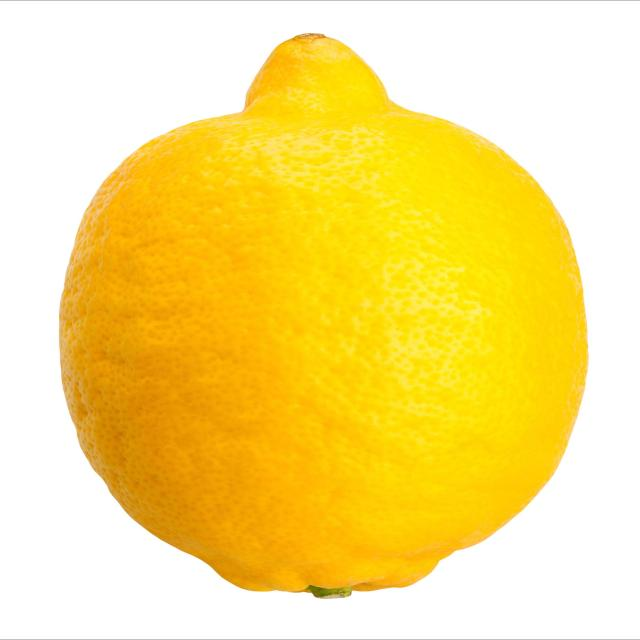lemon: (45, 19, 614, 598)
